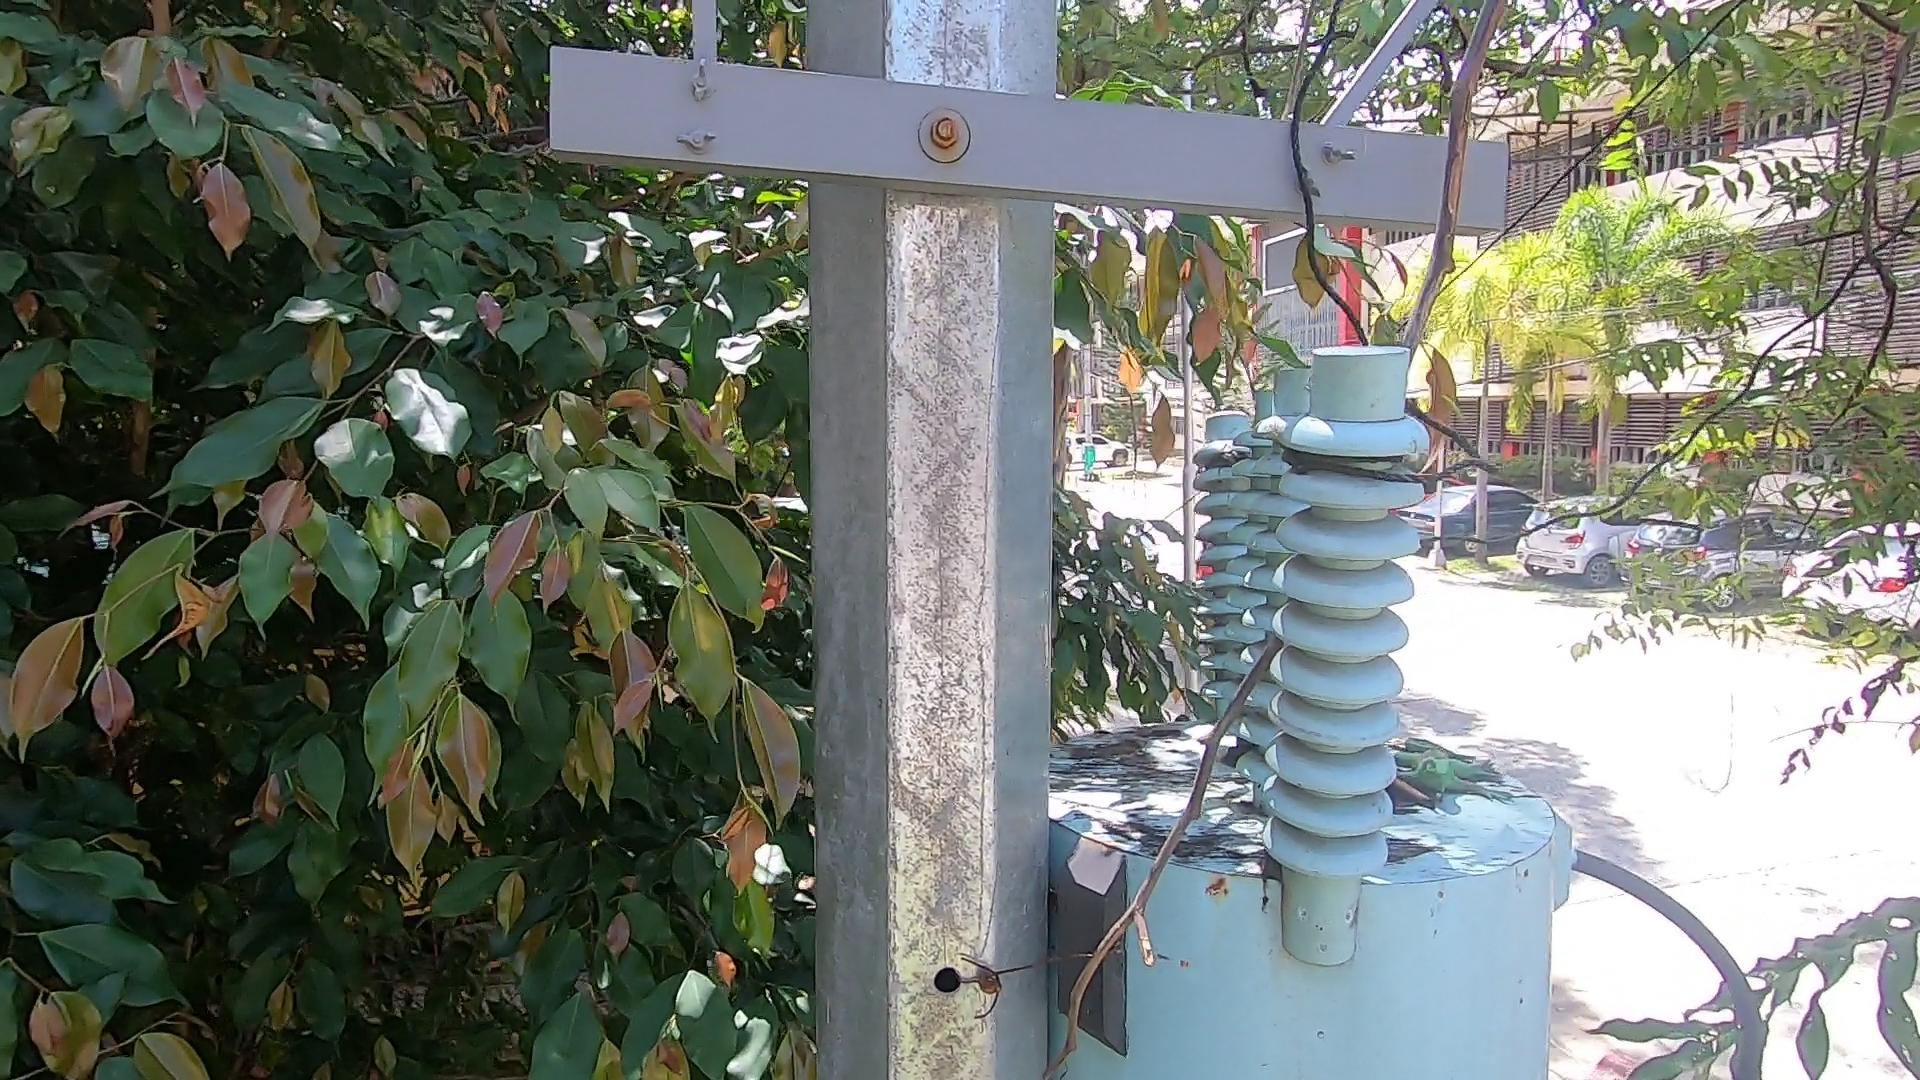branch with leaves: (1097, 218, 1304, 384)
leaf: (1394, 750, 1494, 794), (1077, 732, 1156, 778), (1247, 844, 1280, 885)
tree branch: (990, 1, 1536, 1069)
